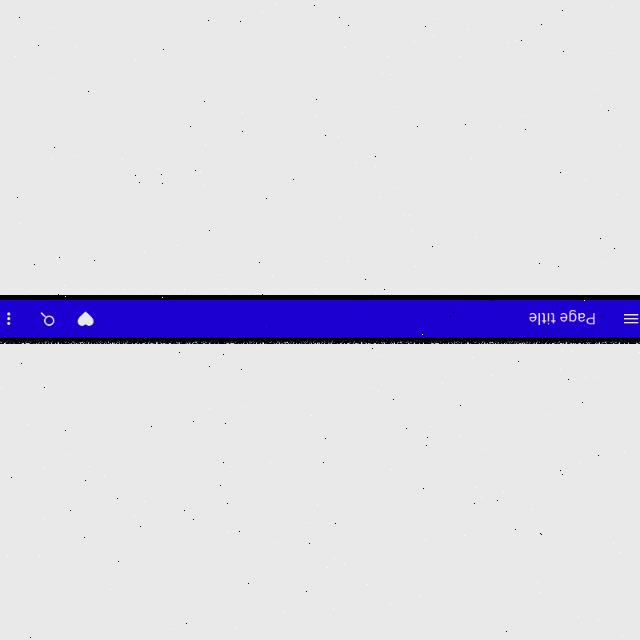QLabel: (528, 310, 596, 328)
VAppBar: (0, 300, 640, 340)
VIcon: (77, 311, 95, 327), (624, 312, 640, 328), (39, 312, 55, 326), (5, 312, 13, 326)
